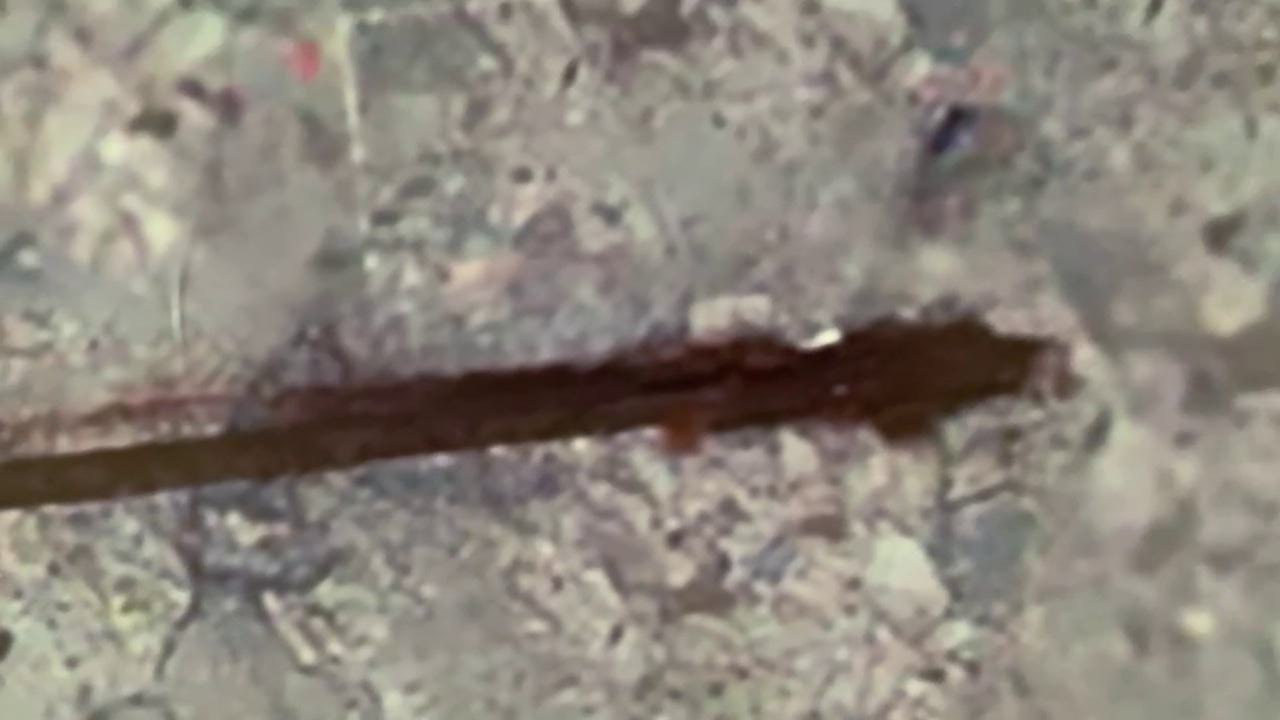Exposed reinforcement: (1, 309, 1057, 515)
